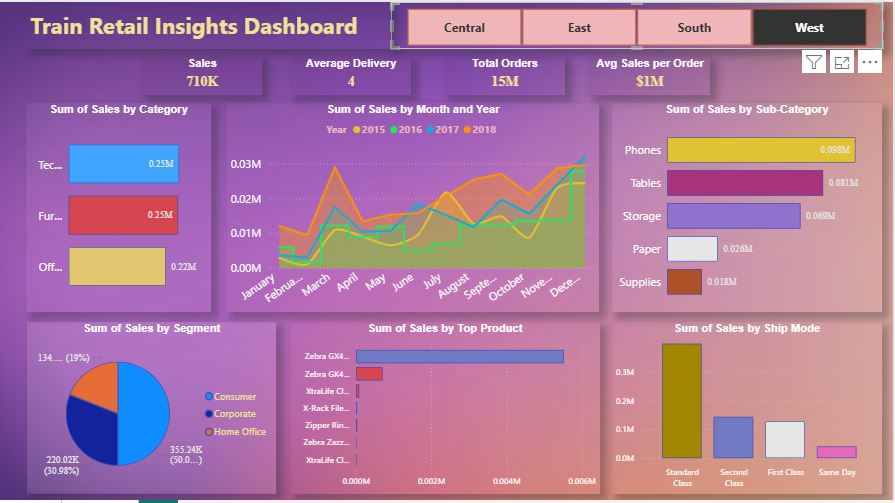

This screenshot's page, from the dashboard's own definition file:
{"tool":"powerbi","page":{"name":"Dashboard","canvas":[1280,720],"ordinal":0},"visuals":[{"type":"barChart","fields":{"Category":["train.Category"],"Y":["Sum(train.Sales)"]},"box":[42,144.9,265.2,298.6],"z":0},{"type":"barChart","fields":{"Category":["train.Sub-Category"],"Y":["Sum(train.Sales)"]},"box":[878.5,144.3,386.1,298.7],"z":1000},{"type":"barChart","title":"Sum of Sales by Top Product ","fields":{"Y":["Sum(train.Sales)"],"Category":["train.Product Name"]},"box":[420.3,457,440.5,245.6],"z":2000},{"type":"lineChart","fields":{"Category":["train.Order Date.Variation.Date Hierarchy.Month","train.Order Date.Variation.Date Hierarchy.Day"],"Series":["train.Order Date.Variation.Date Hierarchy.Year"],"Y":["Sum(train.Sales)"]},"box":[329,144.9,531.9,298.6],"z":3000},{"type":"pieChart","fields":{"Y":["Sum(train.Sales)"],"Category":["train.Segment"]},"box":[42.7,456.9,356.5,245],"z":4000},{"type":"slicer","fields":{"Values":["train.Region"]},"box":[562.3,0,702.9,66.7],"z":5000},{"type":"card","title":"Sales","fields":{"Values":["Sum(train.Sales)"]},"box":[207.2,78.3,172.5,53.6],"z":6000},{"type":"card","title":"Average Delivery","fields":{"Values":["Avg(train.Average Days to Ship)"]},"box":[419.8,78.5,172,53.7],"z":7000},{"type":"card","title":"Total Orders","fields":{"Values":["Sum(train.Total Orders)"]},"box":[640,78.5,172,53.7],"z":8000},{"type":"textbox","box":[42.7,5.5,520.3,60.6],"z":9000},{"type":"lineClusteredColumnComboChart","fields":{"Y":["Sum(train.Sales)"],"Category":["train.Ship Mode"]},"box":[878.5,457,386.1,245.6],"z":10000},{"type":"card","title":"Avg Sales per Order","fields":{"Values":["Sum(train.Avg Sale per Order)"]},"box":[846.5,78.5,172,53.7],"z":11000}]}

Visuals, with their boxes in screenshot pixels (x1, y1, x2, y2), scaled from the page's 1280x720 canvas onto the 895x503 screenshot:
barChart - train.Category x Sum(train.Sales): [29,101,215,310]
barChart - train.Sub-Category x Sum(train.Sales): [614,101,884,309]
"Sum of Sales by Top Product " barChart: [294,319,602,491]
lineChart - train.Order Date.Variation.Date Hierarchy.Month x train.Order Date.Variation.Date Hierarchy.Day: [230,101,602,310]
pieChart - Sum(train.Sales) x train.Segment: [30,319,279,490]
slicer - train.Region: [393,0,885,47]
"Sales" card: [145,55,265,92]
"Average Delivery" card: [294,55,414,92]
"Total Orders" card: [448,55,568,92]
textbox: [30,4,394,46]
lineClusteredColumnComboChart - Sum(train.Sales) x train.Ship Mode: [614,319,884,491]
"Avg Sales per Order" card: [592,55,712,92]
